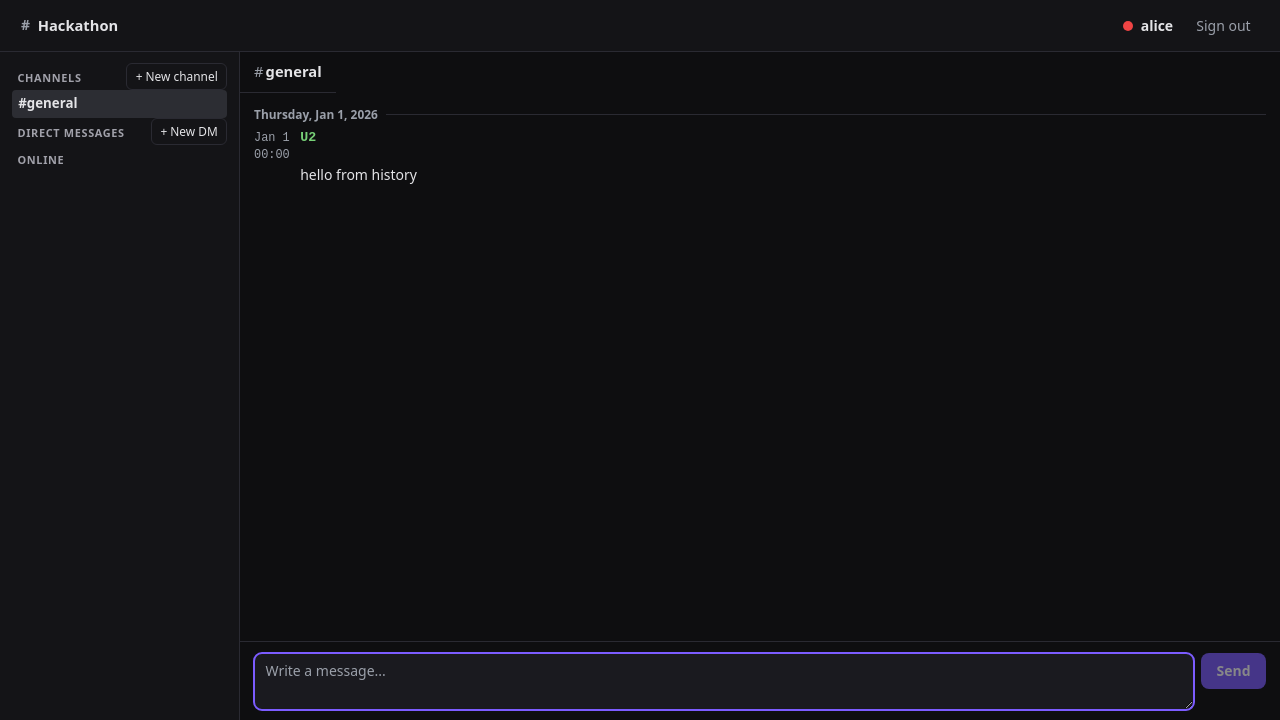
Test: test_web_pending_message_renders_sending_badge_italic_no_opacity › posts a message and asserts the pending row carries the badge, italic body, and no inline style
Check: the text "hello from history" is shown, box top-left (300, 165), bottom-right (417, 184)
Check: the form named "message" is shown, box top-left (240, 641), bottom-right (1279, 719)
Type "pending body" into the text box labelled "message" at [724, 681], box top-left (254, 653), bottom-right (1194, 710)
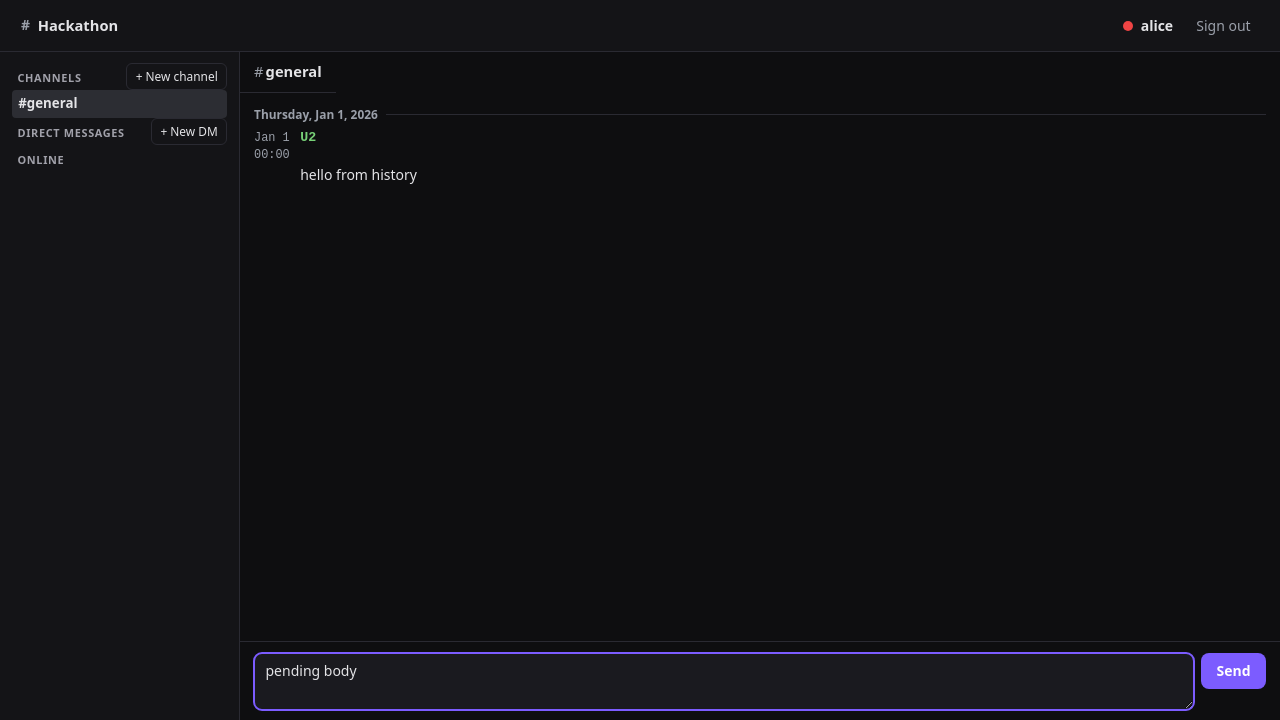
Submit the form named "message", box top-left (240, 641), bottom-right (1279, 719)
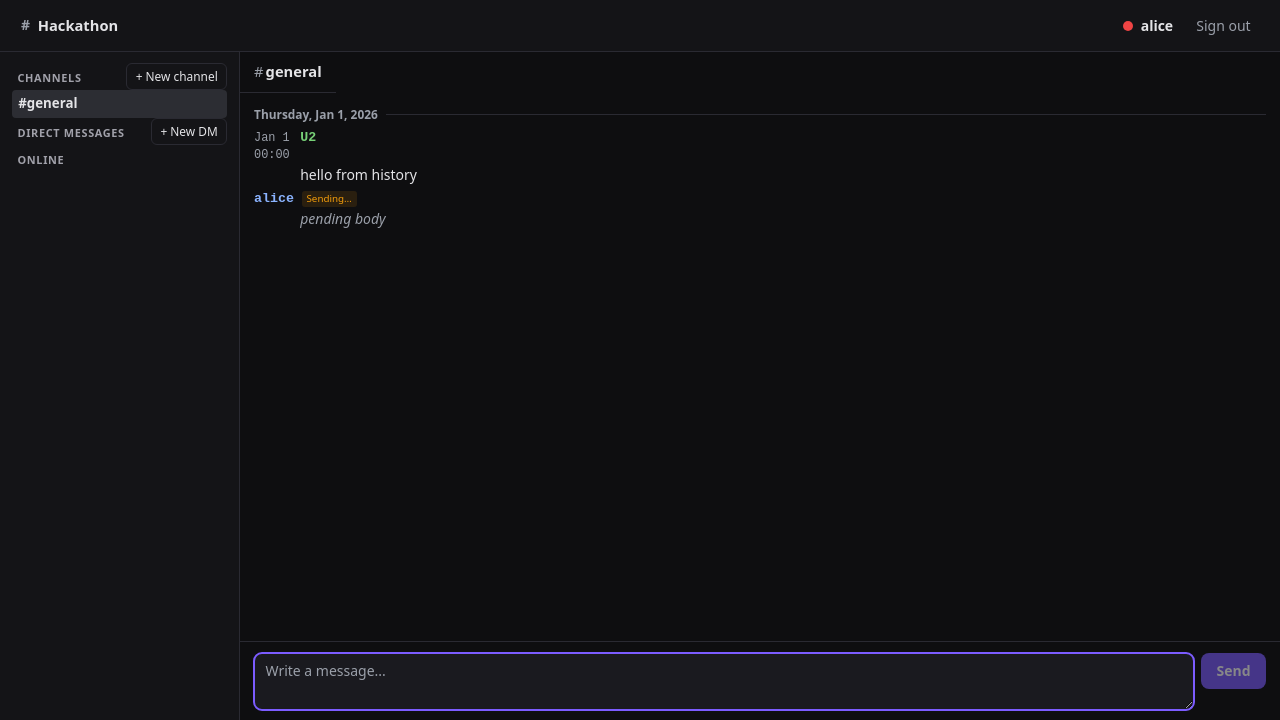
Check: the text "Sending…" is shown, box top-left (302, 191), bottom-right (357, 207)
Check: the element showing "alice Sending… pending body" is shown, box top-left (254, 191), bottom-right (386, 228)
Check: the text "pending body" is shown, box top-left (300, 209), bottom-right (386, 228)
